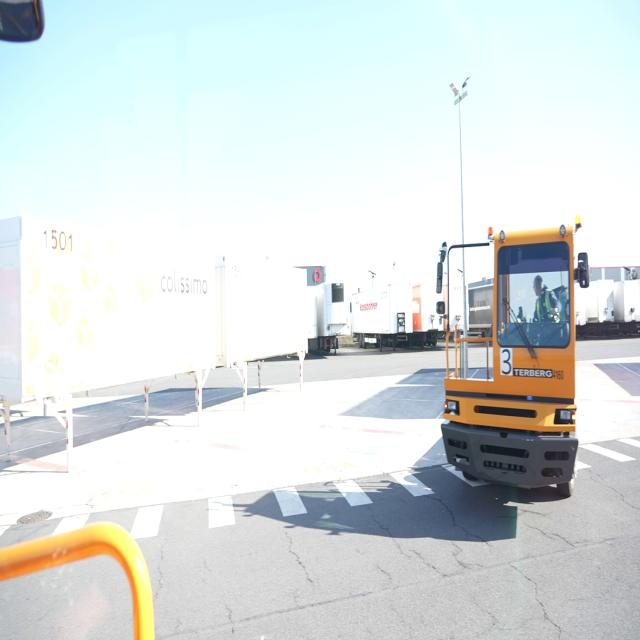Code: (41, 224, 75, 256)
